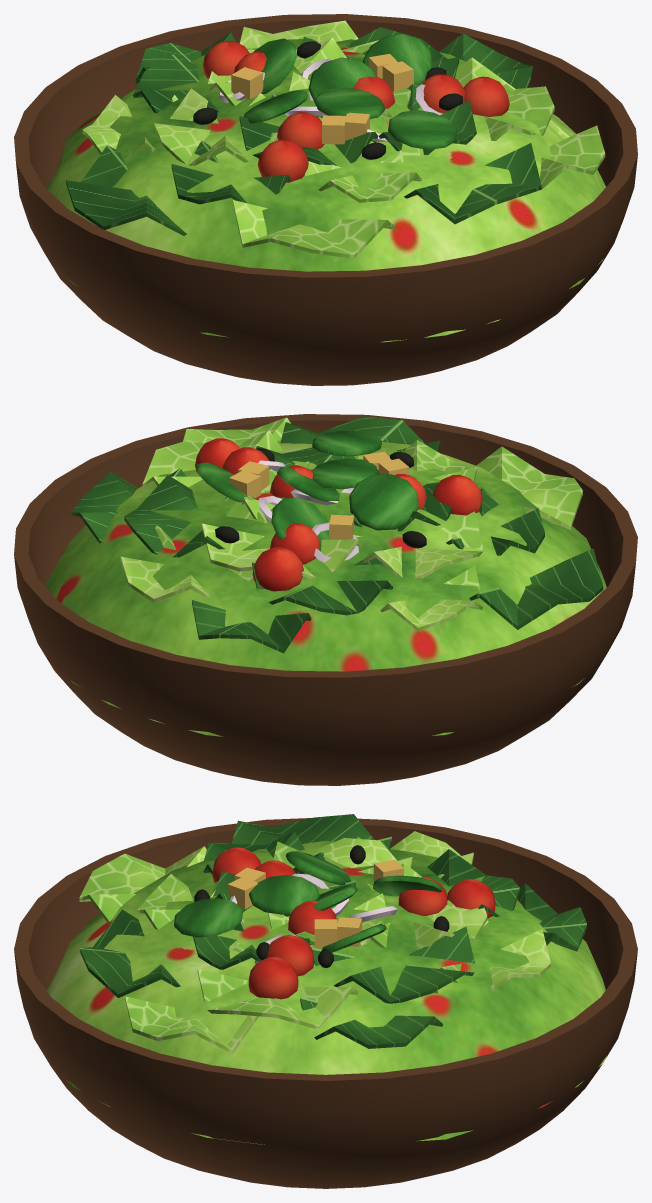
The model's file is meal_salad_bowl_wood.glb.
3 views of the same model, one above another, from view 1: azimuth 30°, elevation 25°; view 2: azimuth 150°, elevation 25°; view 3: azimuth 270°, elevation 25° (orthographic).
Visible parts, largest first — view 1: meal_salad_bowl_wood; view 2: meal_salad_bowl_wood; view 3: meal_salad_bowl_wood.
Boxes of the visible parts, x1,y1,x2,y2 form: meal_salad_bowl_wood: [14, 14, 637, 385]; meal_salad_bowl_wood: [14, 414, 637, 785]; meal_salad_bowl_wood: [14, 814, 637, 1188].
Size of the model in its own units: 0.3 by 0.1293 by 0.3.
Materials: 9 (5 with a texture image).
